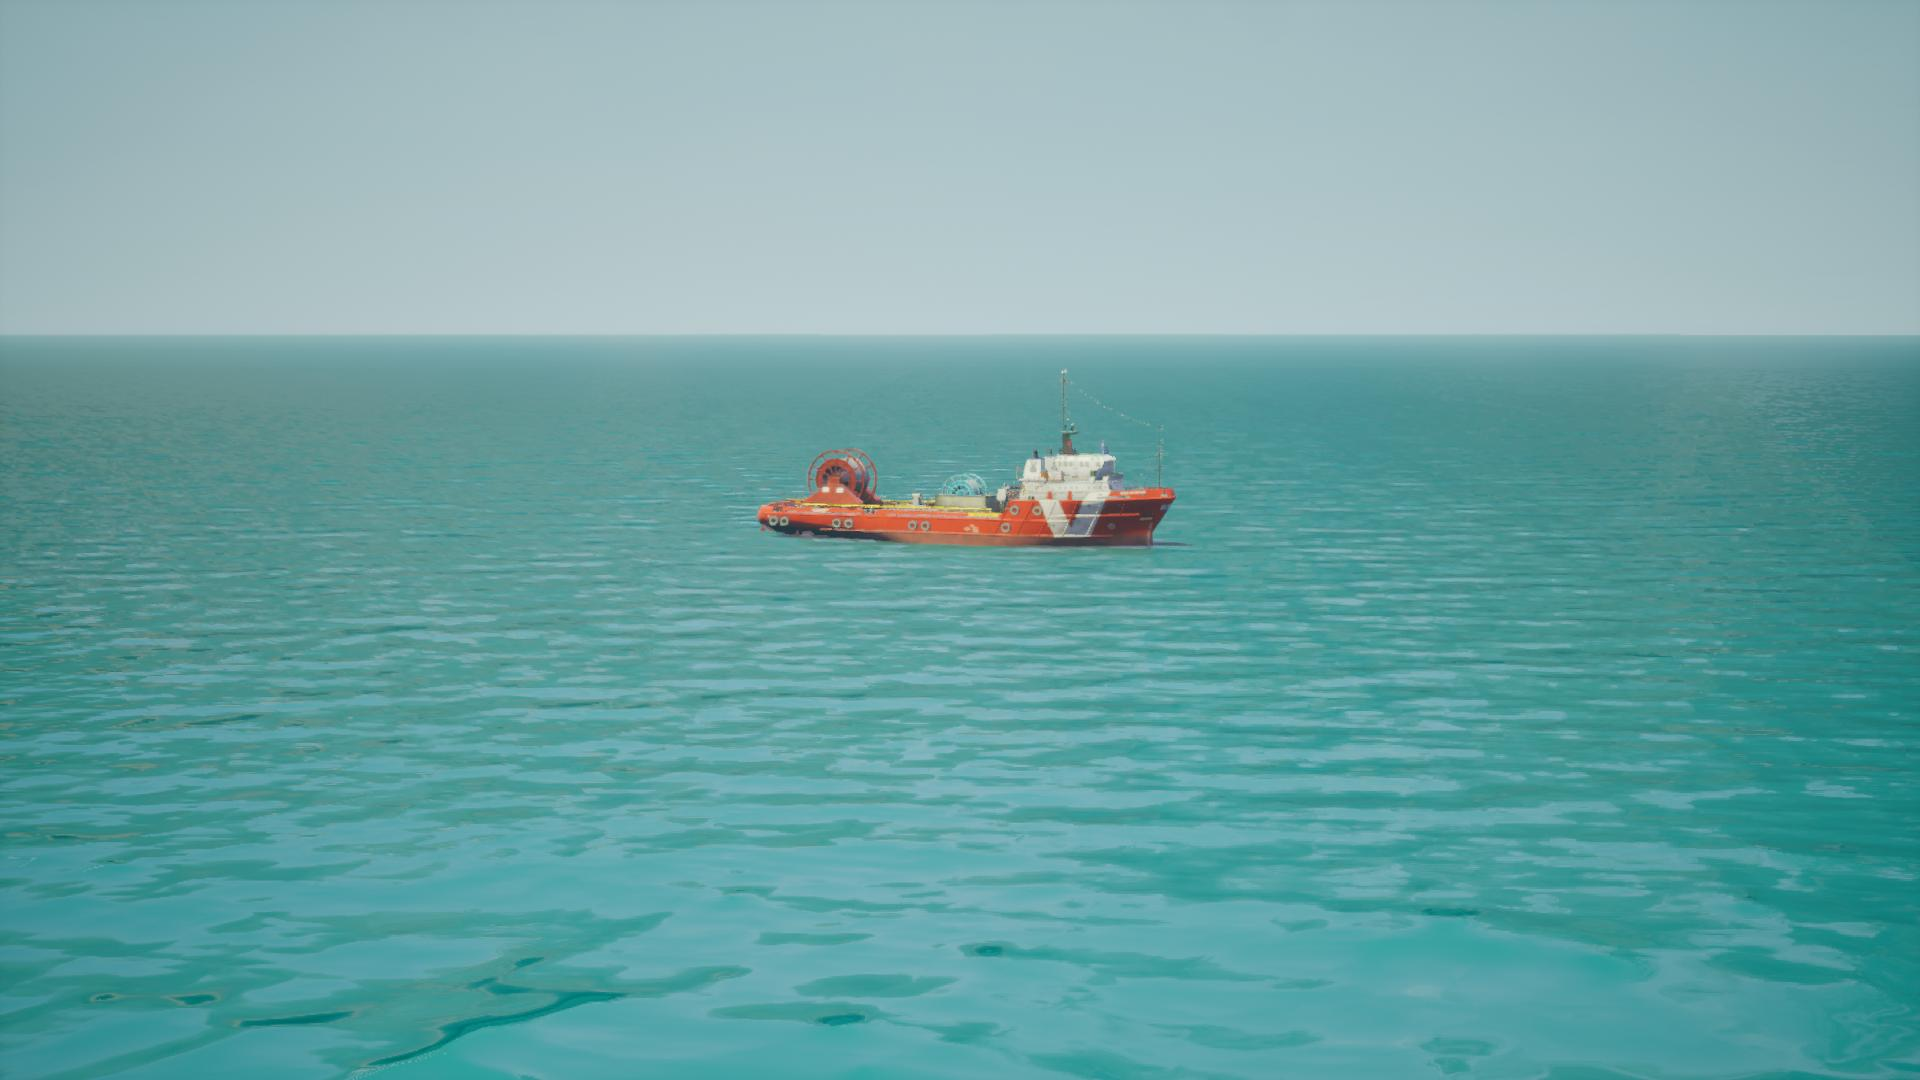Tug Boat: (757, 371, 1184, 550)
